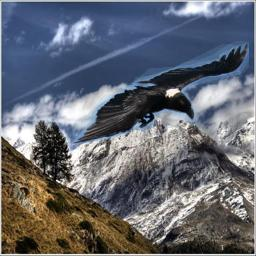Crow: (72, 41, 249, 144)
